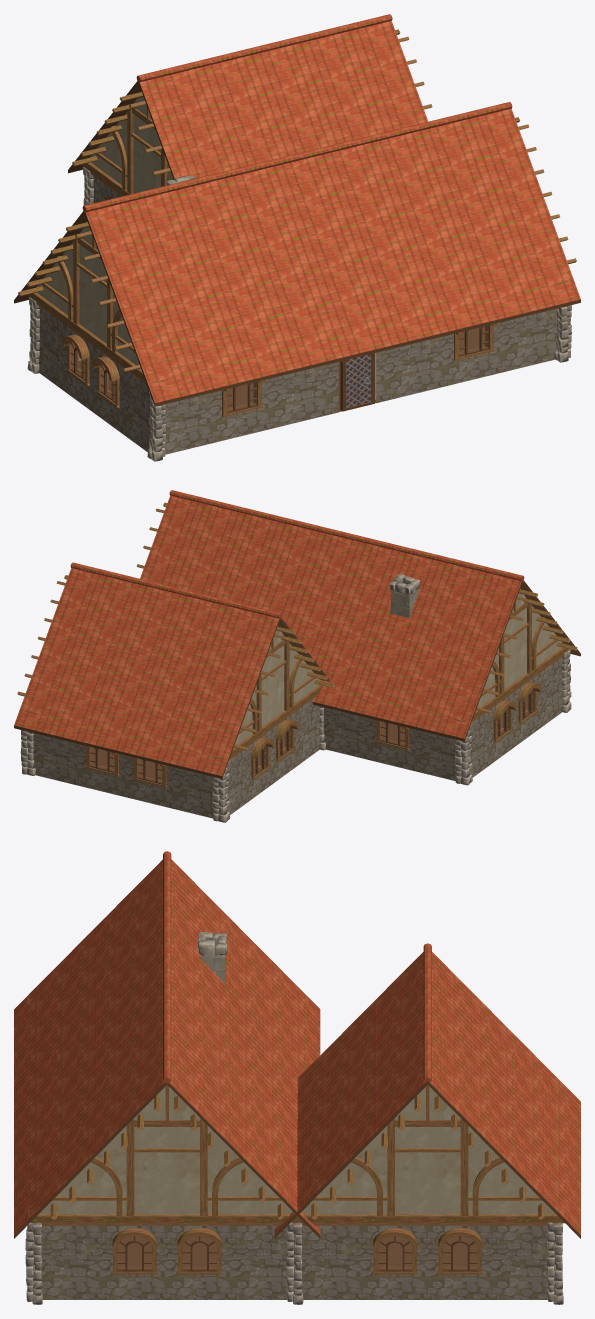
File: illhouse.glb
3 views of the same model, one above another, from view 1: azimuth 30°, elevation 25°; view 2: azimuth 150°, elevation 25°; view 3: azimuth 270°, elevation 25° (orthographic). The views are drawn at different scales.
Visible parts, largest first — view 1: Wall_UnevenBrick_Straight.001; view 2: Wall_UnevenBrick_Straight.001; view 3: Wall_UnevenBrick_Straight.001.
Part boxes in pixels (x1=…): Wall_UnevenBrick_Straight.001: x1=14, y1=14, x2=580, y2=461; Wall_UnevenBrick_Straight.001: x1=14, y1=490, x2=580, y2=822; Wall_UnevenBrick_Straight.001: x1=14, y1=851, x2=580, y2=1304.
Size of the model in its own units: 18 by 8 by 18.
Materials: 21 (20 with a texture image).
